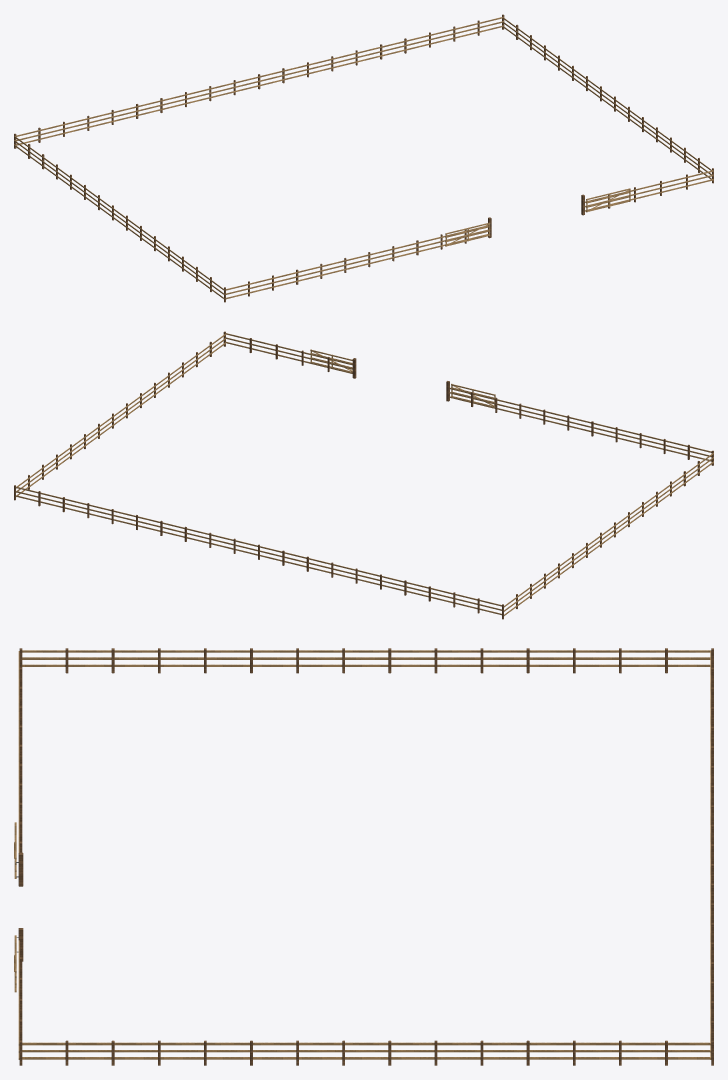
Rendered from fence.glb.
3 views of the same model, one above another, from view 1: azimuth 30°, elevation 25°; view 2: azimuth 150°, elevation 25°; view 3: azimuth 270°, elevation 25° (orthographic). The views are drawn at different scales.
Parts seen in each view (by area): view 1: fence_wood, fence_post; view 2: fence_wood, fence_post; view 3: fence_wood, fence_post.
Boxes of the visible parts, bbox=[...] form: fence_wood: bbox=[14, 16, 713, 299]; fence_post: bbox=[14, 14, 713, 302]; fence_wood: bbox=[15, 333, 713, 615]; fence_post: bbox=[14, 331, 713, 619]; fence_wood: bbox=[14, 650, 711, 1059]; fence_post: bbox=[18, 648, 713, 1065].
Size of the model in its own units: 47.18 by 1.8 by 35.42.
3 materials, 2 textured.
